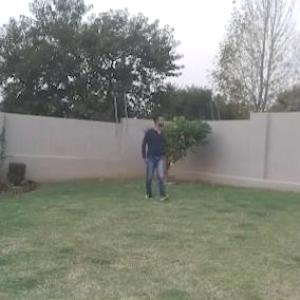follow: (139, 112, 168, 202)
